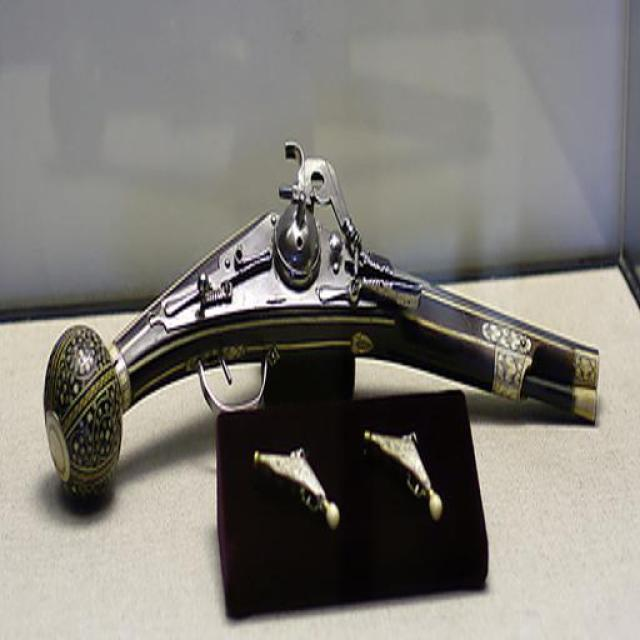pistol: (47, 131, 601, 516)
